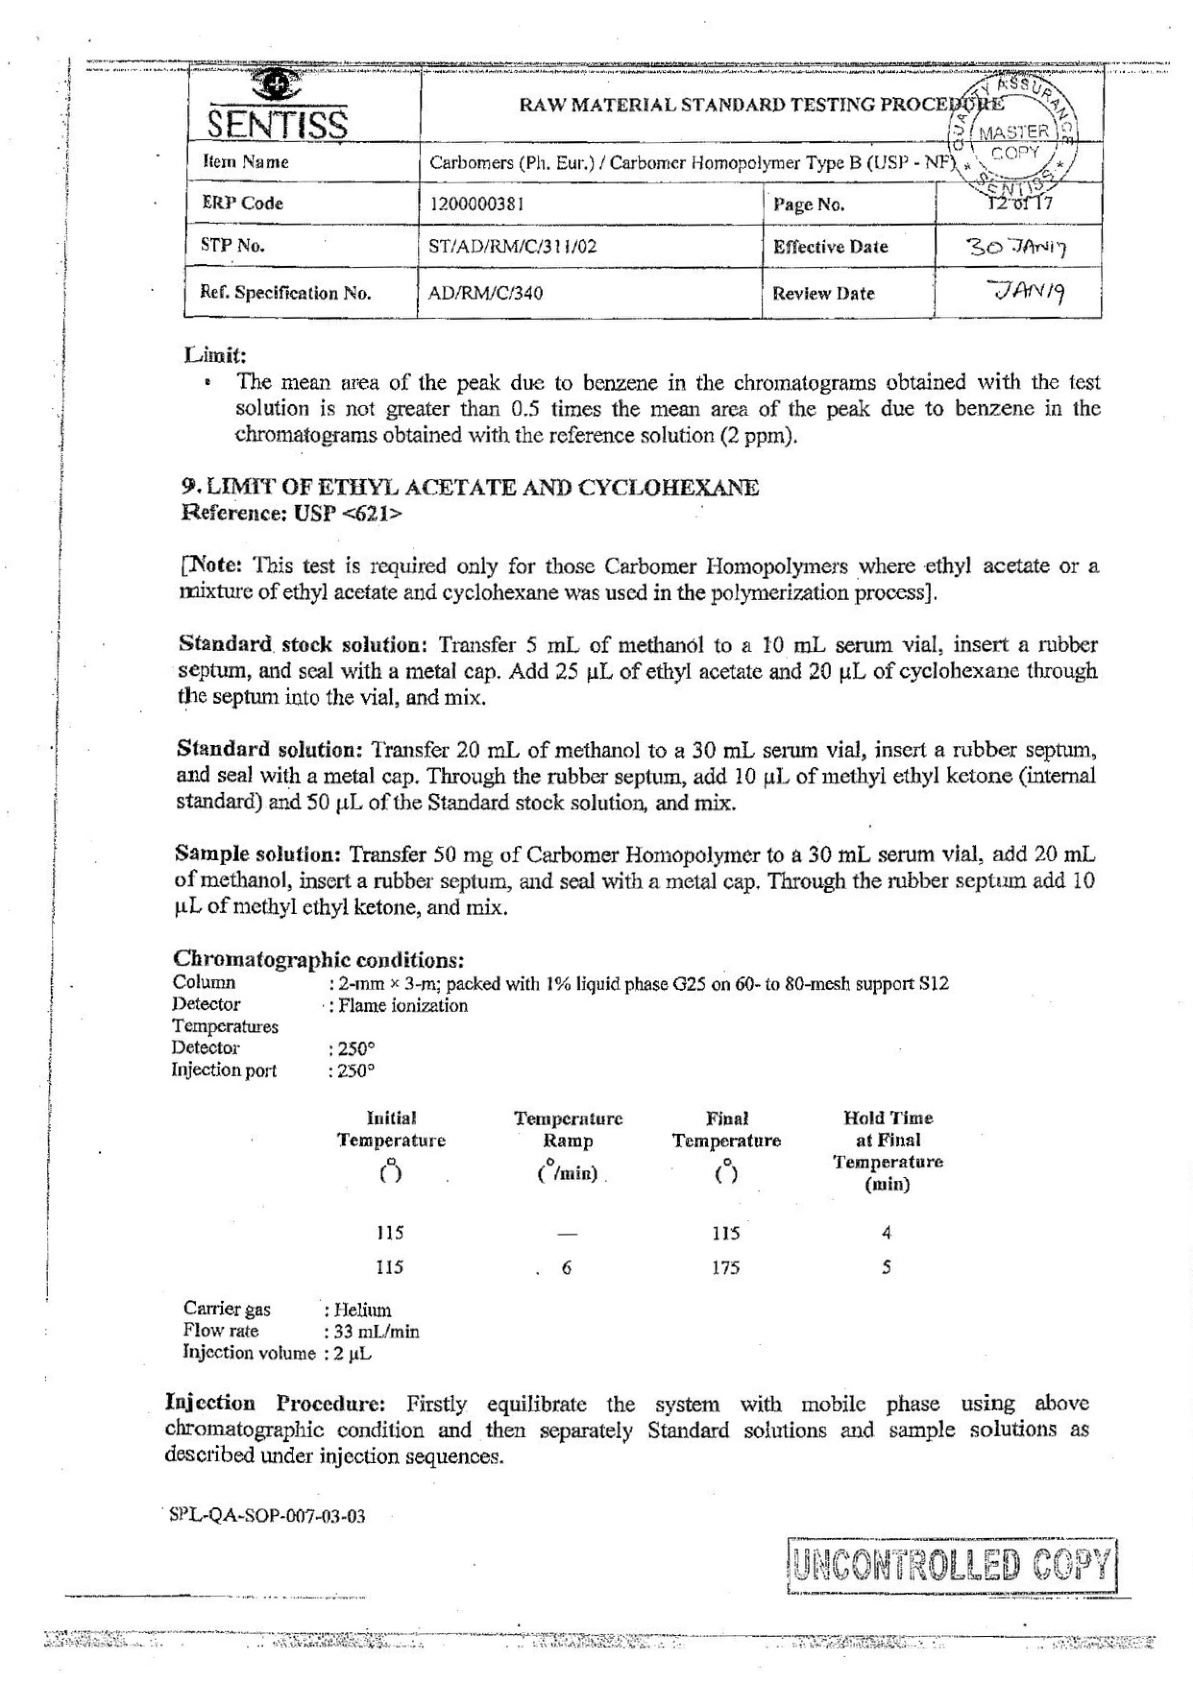merged_cells: (182, 61, 1106, 320)
nolines: (334, 1104, 946, 1276)
